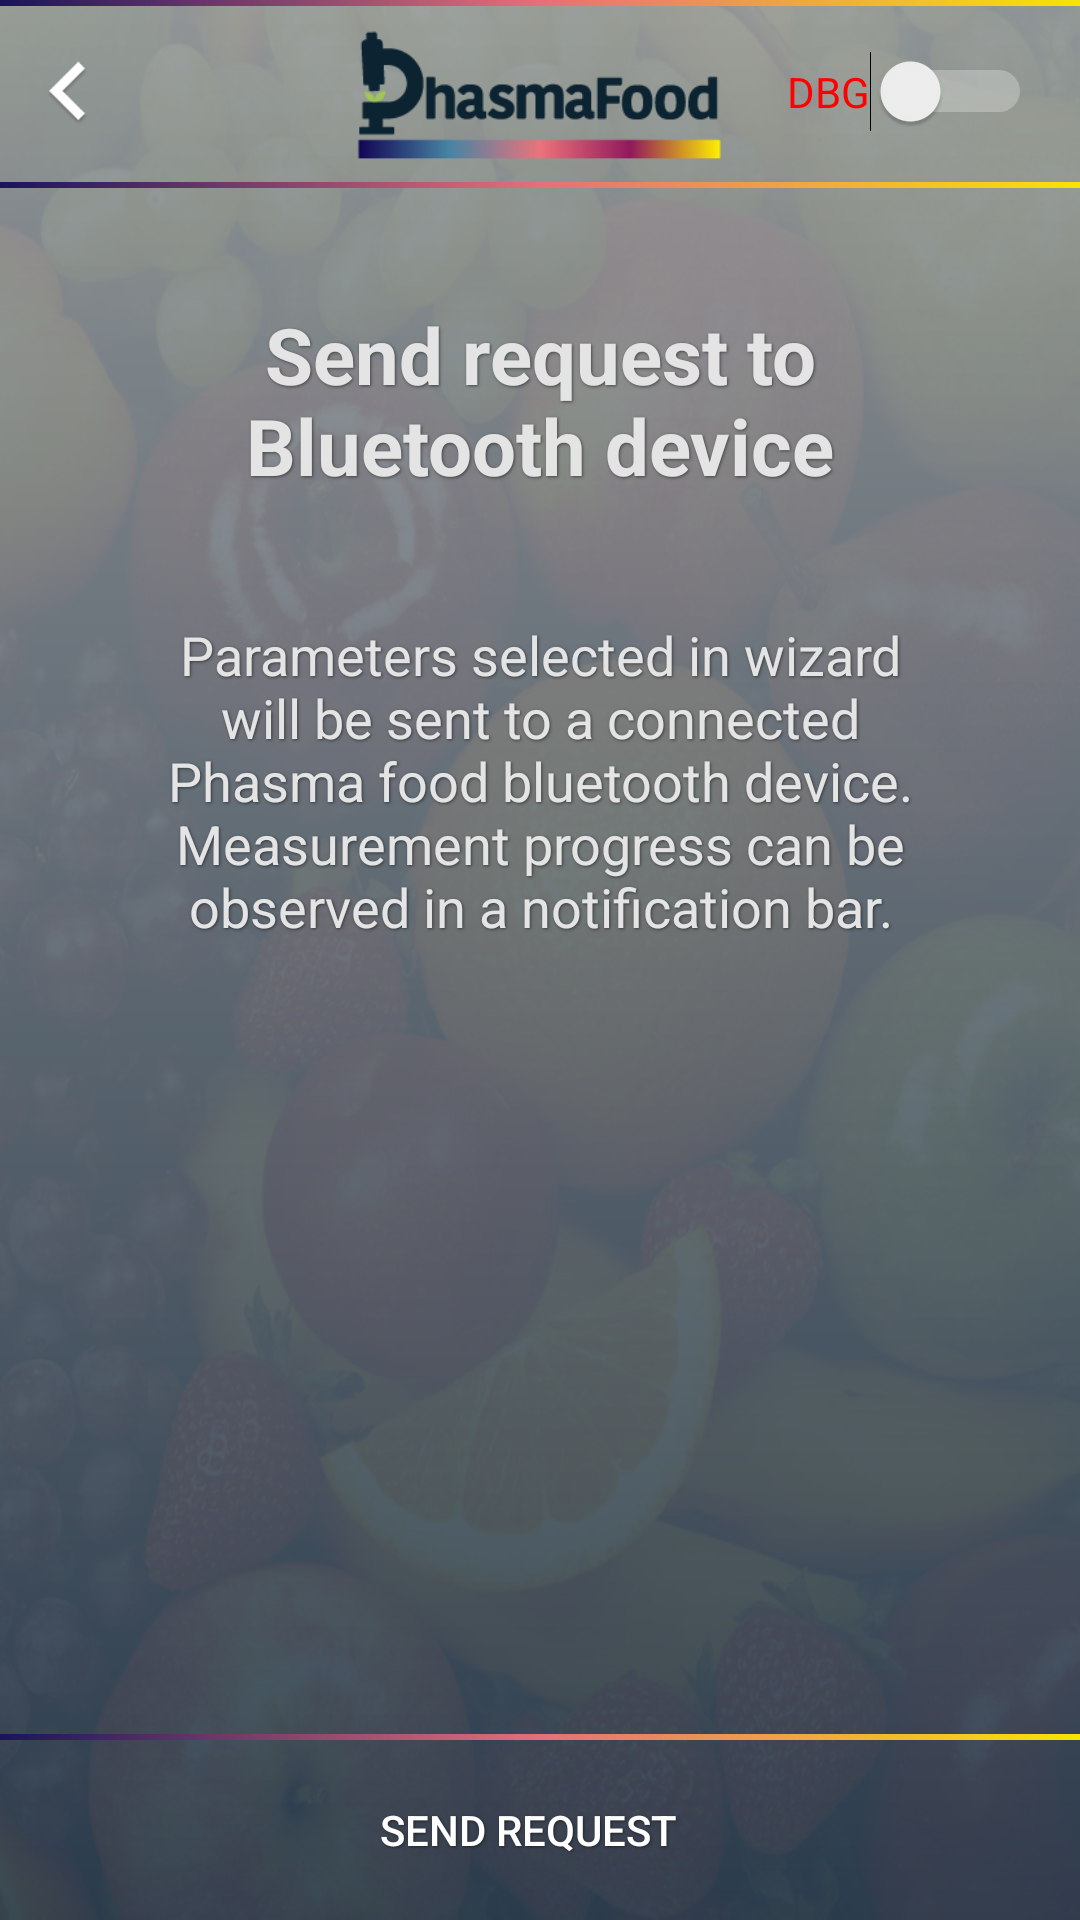

Where icons sit on this 1080px×1920px app screen, as (x1, y1, x2, y2):
back: (49, 62, 85, 121)
